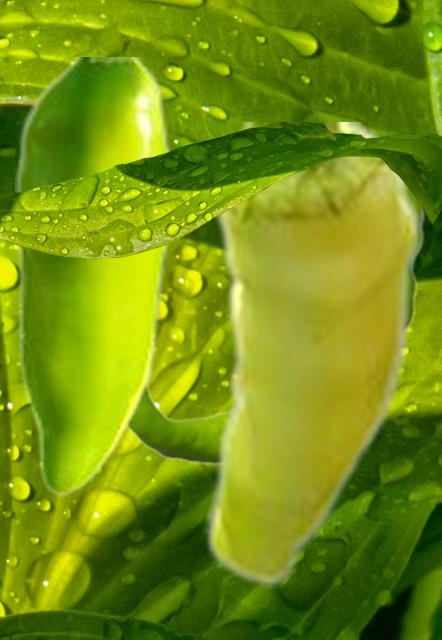green_chili: (203, 122, 422, 587), (128, 191, 425, 467), (15, 57, 174, 496)
